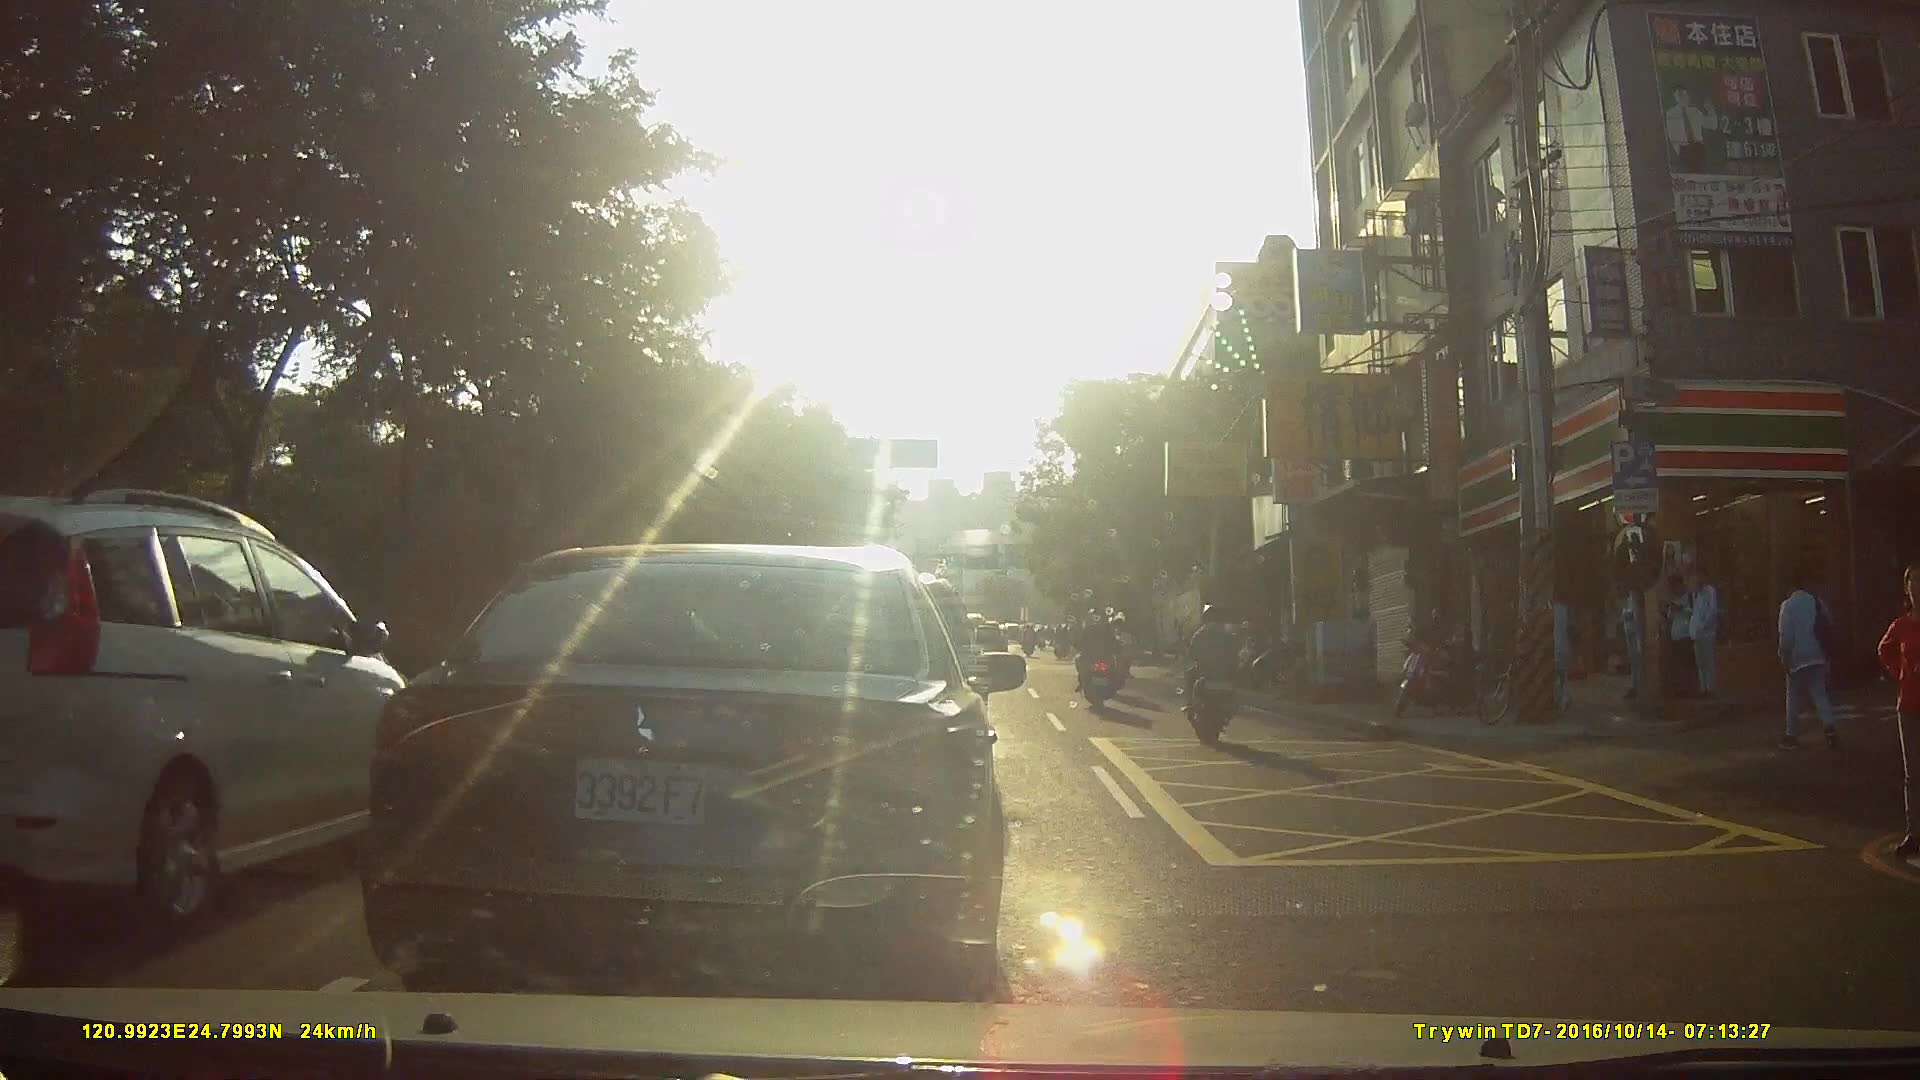pedestrian: (1771, 568, 1842, 758), (1876, 567, 1920, 854), (1527, 580, 1574, 714), (1679, 569, 1721, 701), (1614, 573, 1655, 708), (1662, 567, 1700, 711)
rider: (1183, 601, 1249, 751), (1075, 610, 1124, 713), (1052, 623, 1073, 663), (1020, 625, 1040, 662)
vehicle: (353, 544, 1036, 983), (1, 475, 456, 930)
